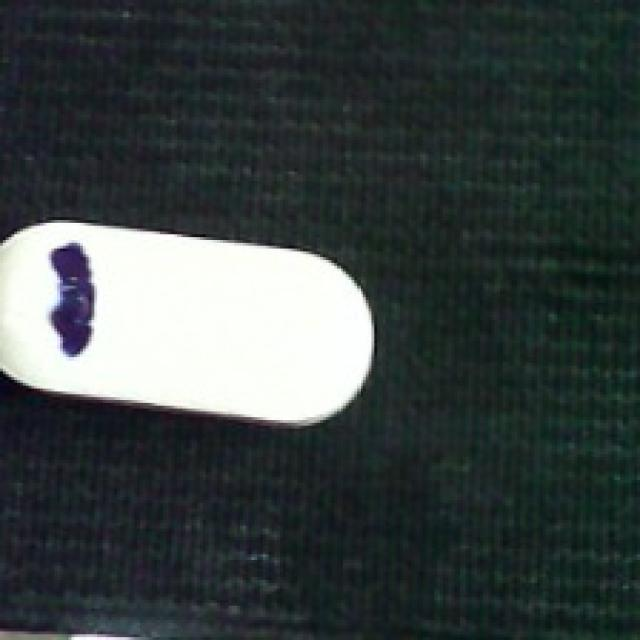defected: (0, 217, 380, 423)
